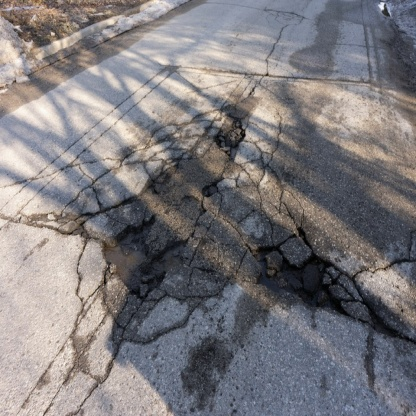pothole: (242, 207, 394, 340), (78, 193, 203, 311)
